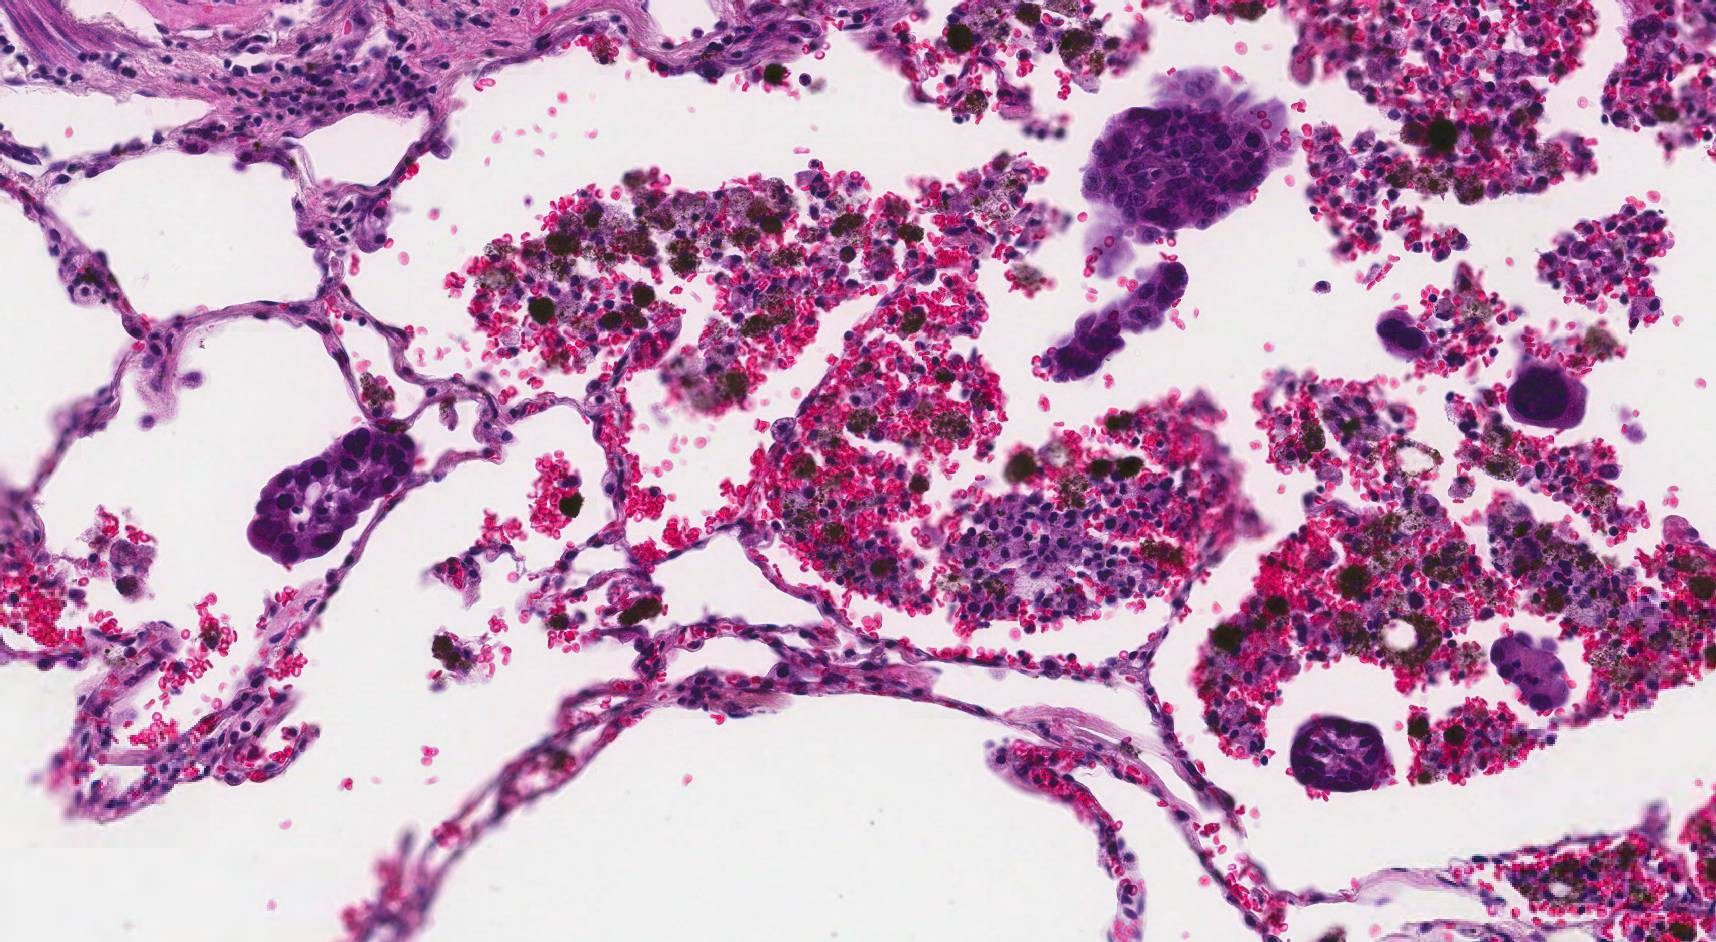stas: (1083, 106, 1275, 240), (247, 429, 417, 563), (1040, 262, 1190, 381), (1288, 714, 1385, 792)
